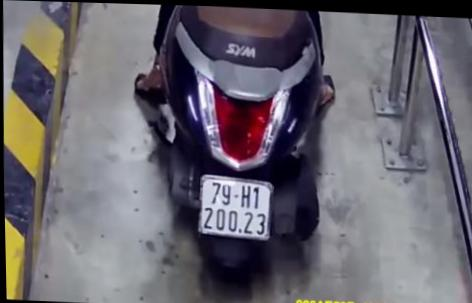LP: (197, 172, 273, 240)
